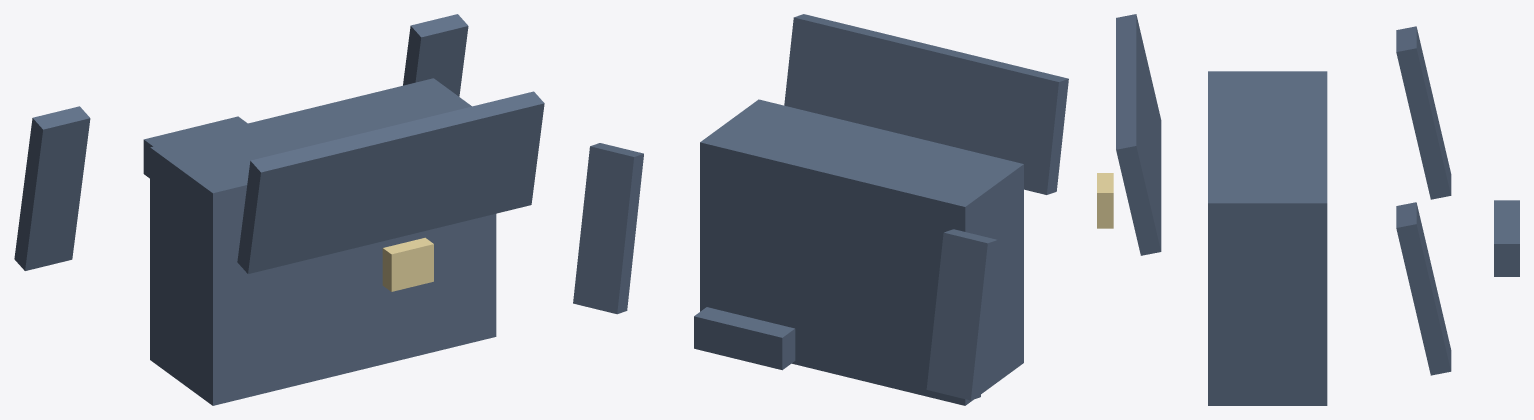
The model's file is wear_bag.glb.
3 renders of one model, left to right at view 1: azimuth 30°, elevation 25°; view 2: azimuth 150°, elevation 25°; view 3: azimuth 270°, elevation 25°, orthographic. The views are drawn at different scales.
Visible parts, largest first — view 1: bag_body, bag_flap, bag_strap_l, bag_strap_r, bag_buckle, bag_handle; view 2: bag_body, bag_flap, bag_strap_l, bag_strap_r, bag_handle; view 3: bag_body, bag_flap, bag_strap_r, bag_strap_l, bag_handle, bag_buckle.
Part boxes in pixels (x1,y1,x2,y2): bag_body: (150, 78, 496, 405); bag_flap: (237, 91, 544, 273); bag_strap_l: (14, 106, 90, 270); bag_strap_r: (403, 14, 468, 96); bag_buckle: (382, 237, 433, 291); bag_handle: (143, 116, 247, 178); bag_body: (700, 99, 1023, 405); bag_flap: (784, 14, 1068, 194); bag_strap_l: (926, 229, 997, 400); bag_strap_r: (573, 143, 643, 314); bag_handle: (694, 307, 795, 370); bag_body: (1208, 71, 1327, 405); bag_flap: (1116, 14, 1161, 255); bag_strap_r: (1396, 202, 1451, 375); bag_strap_l: (1396, 26, 1451, 199); bag_handle: (1494, 200, 1519, 276); bag_buckle: (1097, 173, 1113, 228).
Bounding box in the file's own units: 0.225 × 0.1379 × 0.2033.
